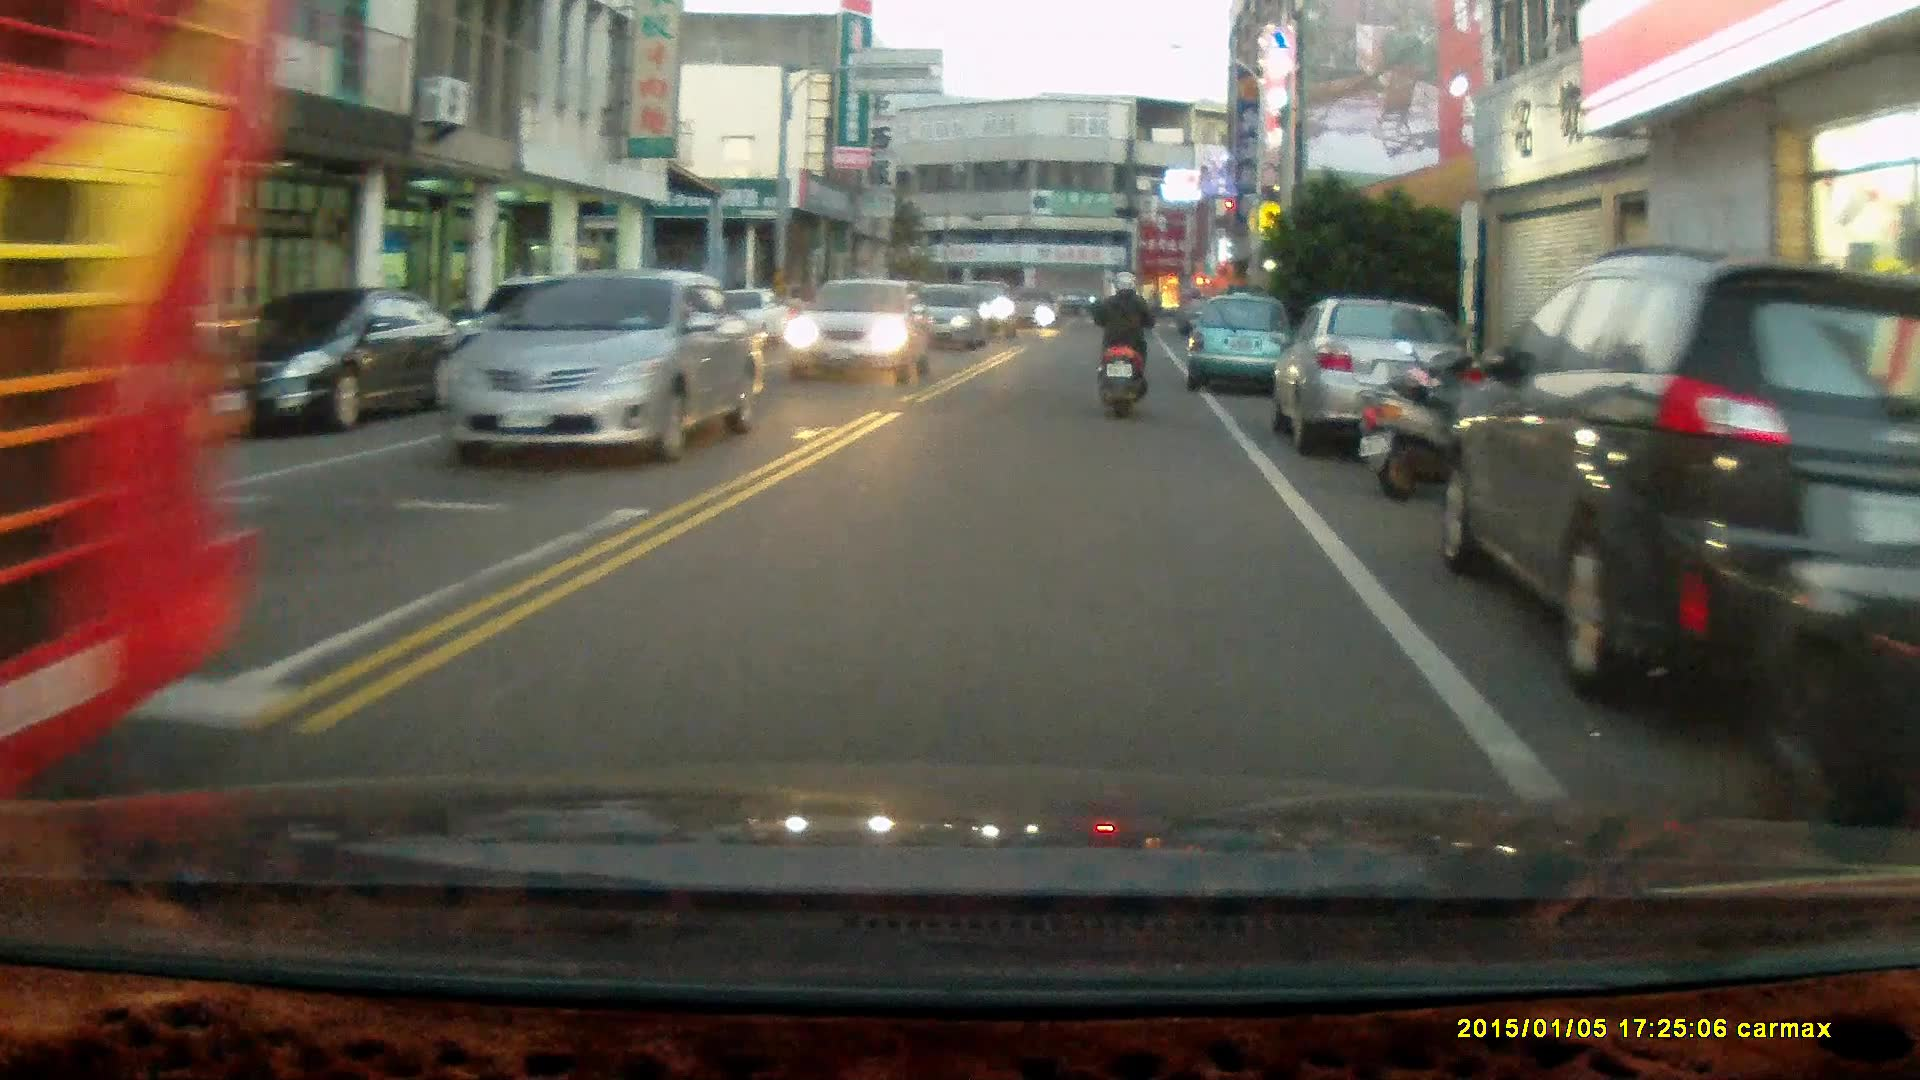rider: (1087, 270, 1150, 422)
vehicle: (1440, 248, 1920, 713), (1, 9, 271, 797), (432, 269, 764, 465), (188, 284, 467, 442), (1278, 302, 1465, 467), (785, 282, 933, 387), (1187, 292, 1298, 396), (897, 286, 984, 357)
